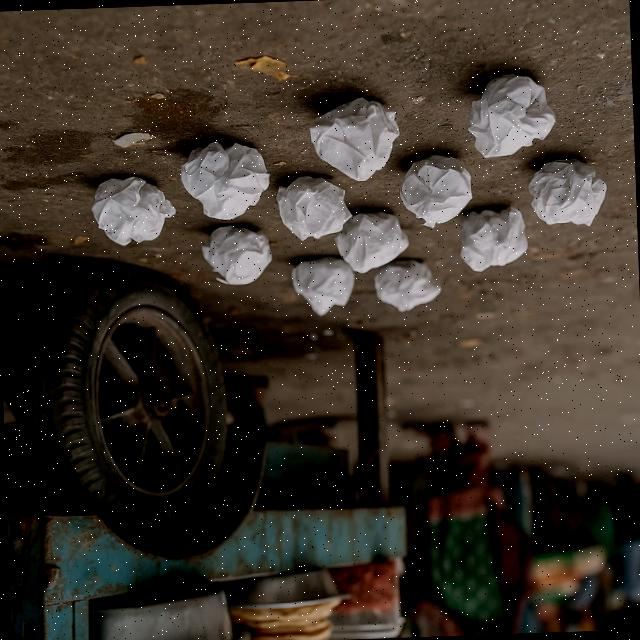paper: (464, 67, 558, 158), (302, 94, 400, 180), (176, 138, 270, 225), (94, 172, 174, 251), (202, 222, 274, 294)
